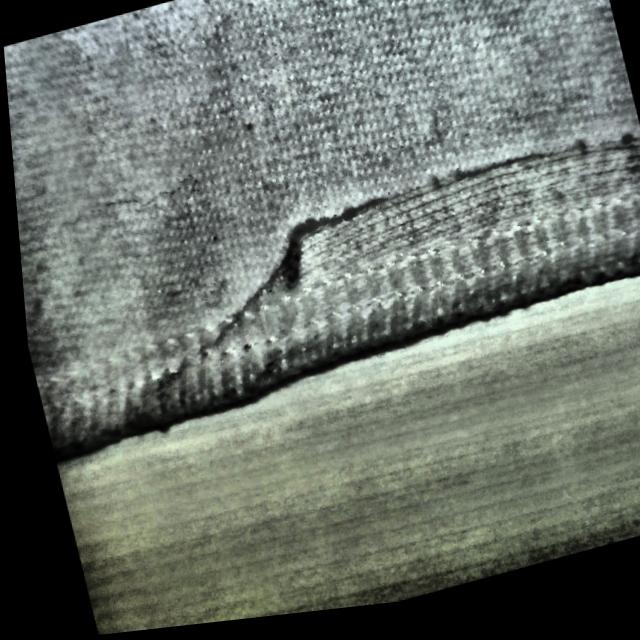seam: (217, 95, 640, 388)
